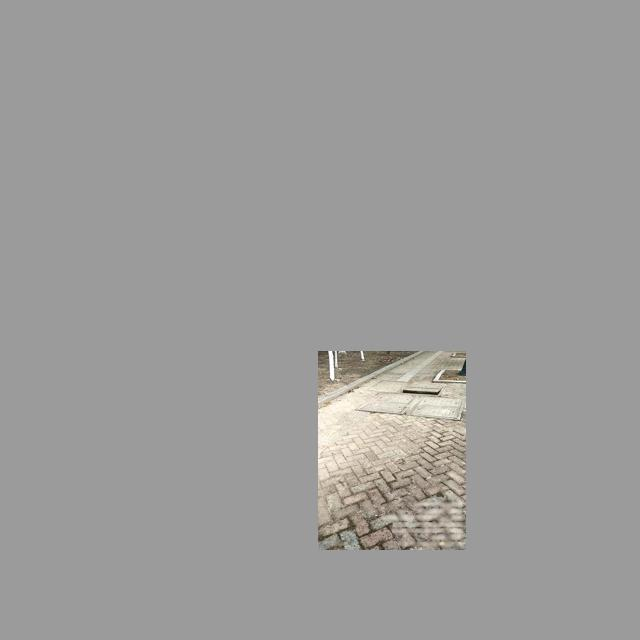good: (356, 392, 466, 420)
uncovered: (403, 381, 447, 395)
